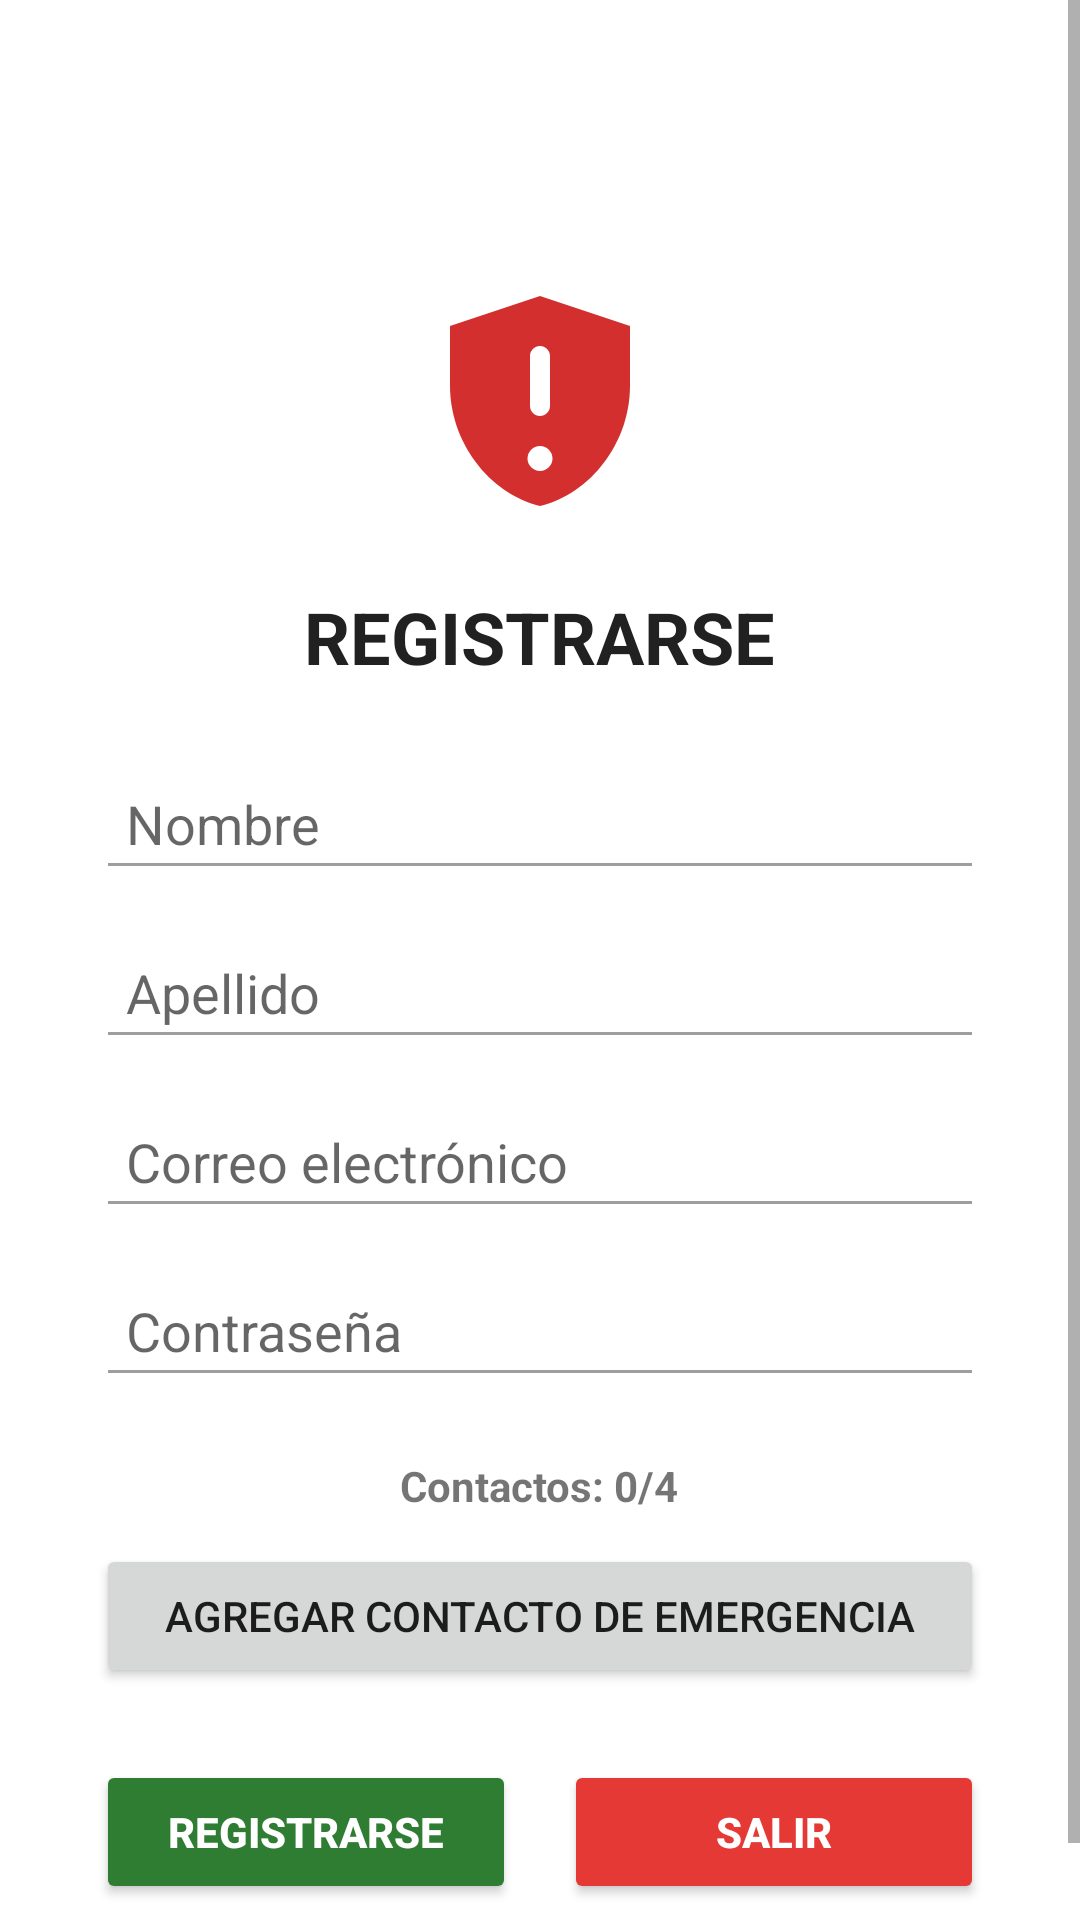

Icons on this 1080px×1920px Android screen, each with the point to tap as [x,y]:
alert: [540,401]
